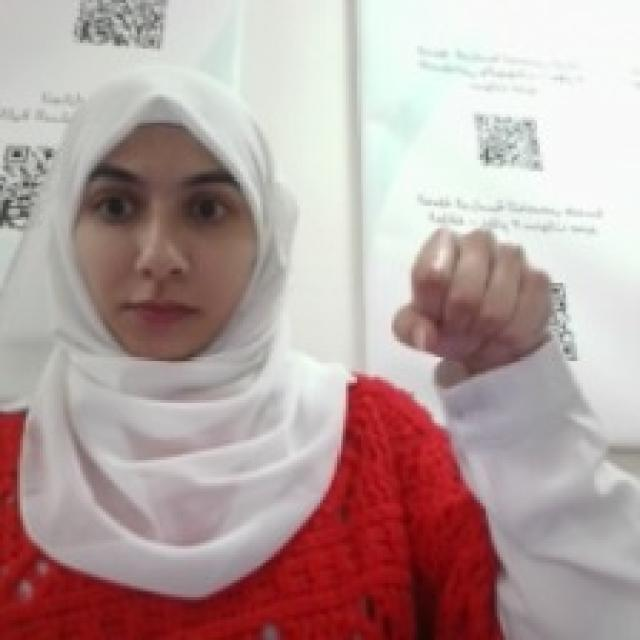yes: (386, 214, 560, 383)
